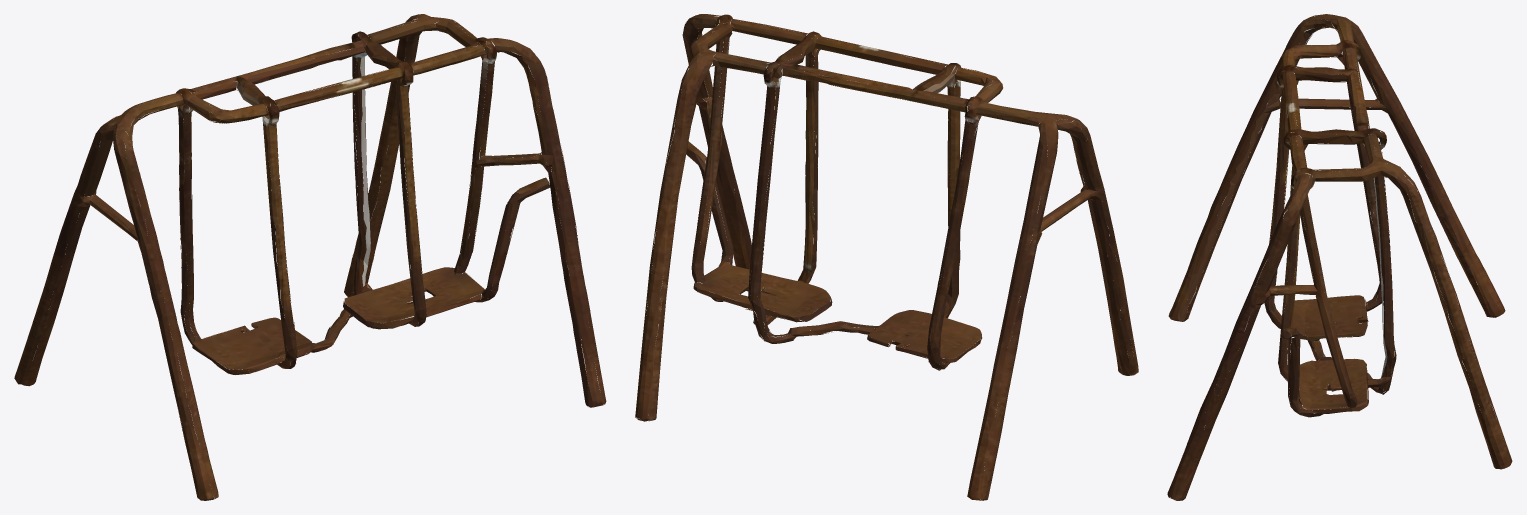
File: rusted-playground-frame.glb
3 renders of one model, left to right at view 1: azimuth 30°, elevation 25°; view 2: azimuth 150°, elevation 25°; view 3: azimuth 270°, elevation 25°, orthographic. The views are drawn at different scales.
Parts seen in each view (by area): view 1: tmp2v34oh5e.ply; view 2: tmp2v34oh5e.ply; view 3: tmp2v34oh5e.ply.
Part boxes in pixels (x1,y1,x2,y2): tmp2v34oh5e.ply: [14, 14, 606, 500]; tmp2v34oh5e.ply: [635, 14, 1138, 500]; tmp2v34oh5e.ply: [1167, 14, 1512, 500].
Size of the model in its own units: 4 by 3 by 3.
Materials: 1 (1 with a texture image).
